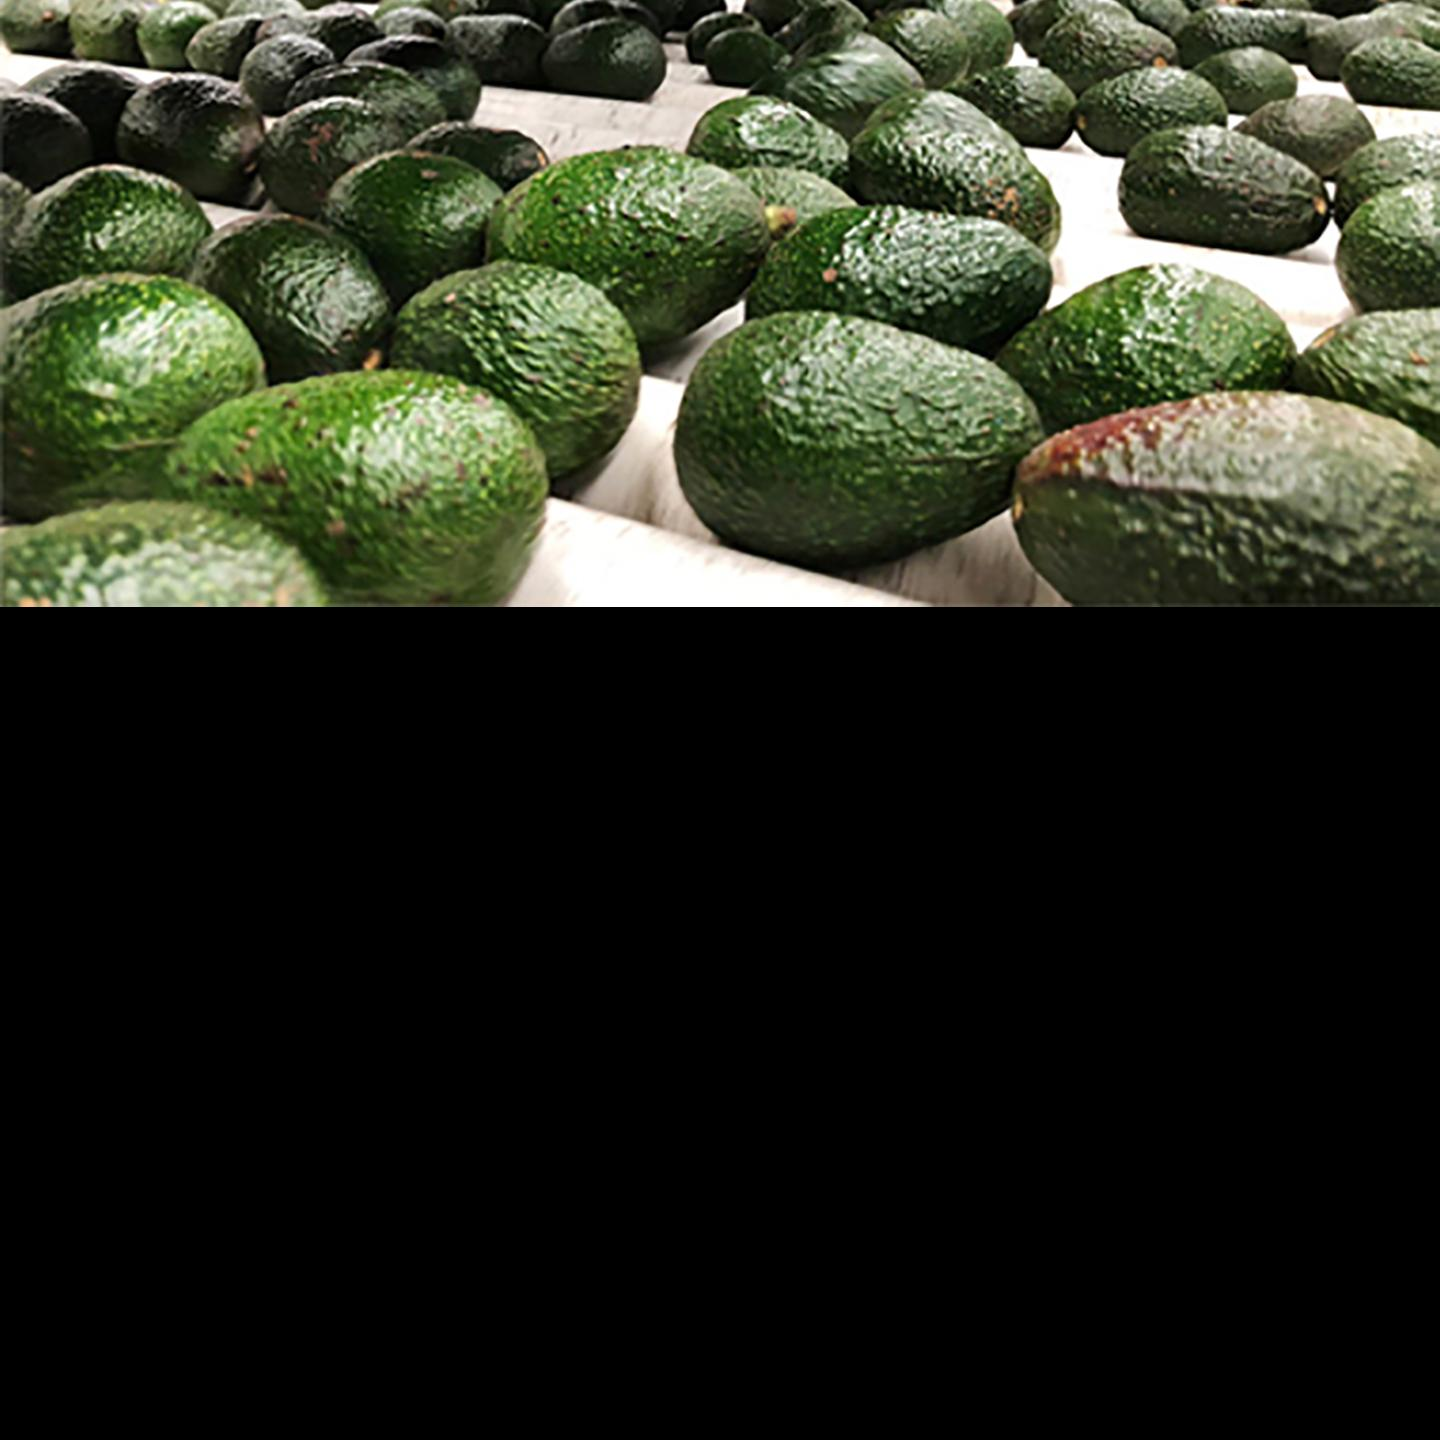unripe: (676, 311, 1048, 574), (156, 369, 547, 607), (1011, 390, 1393, 607), (1, 273, 266, 524), (487, 145, 796, 351), (392, 262, 640, 479), (997, 262, 1300, 436), (745, 204, 1054, 359), (847, 88, 1062, 253), (3, 501, 331, 607), (193, 212, 393, 378), (3, 164, 215, 298), (1120, 124, 1331, 255), (324, 149, 505, 294), (1300, 306, 1440, 448), (258, 98, 409, 215), (684, 94, 847, 191), (1076, 65, 1228, 158), (1336, 179, 1440, 313), (1229, 95, 1377, 175), (942, 66, 1076, 150), (1042, 17, 1179, 96), (1333, 132, 1440, 231), (862, 5, 969, 88), (1182, 7, 1336, 63), (1305, 13, 1423, 82), (1340, 37, 1440, 112), (1189, 46, 1298, 113), (137, 3, 219, 71), (73, 1, 145, 66), (1, 1, 70, 58)
